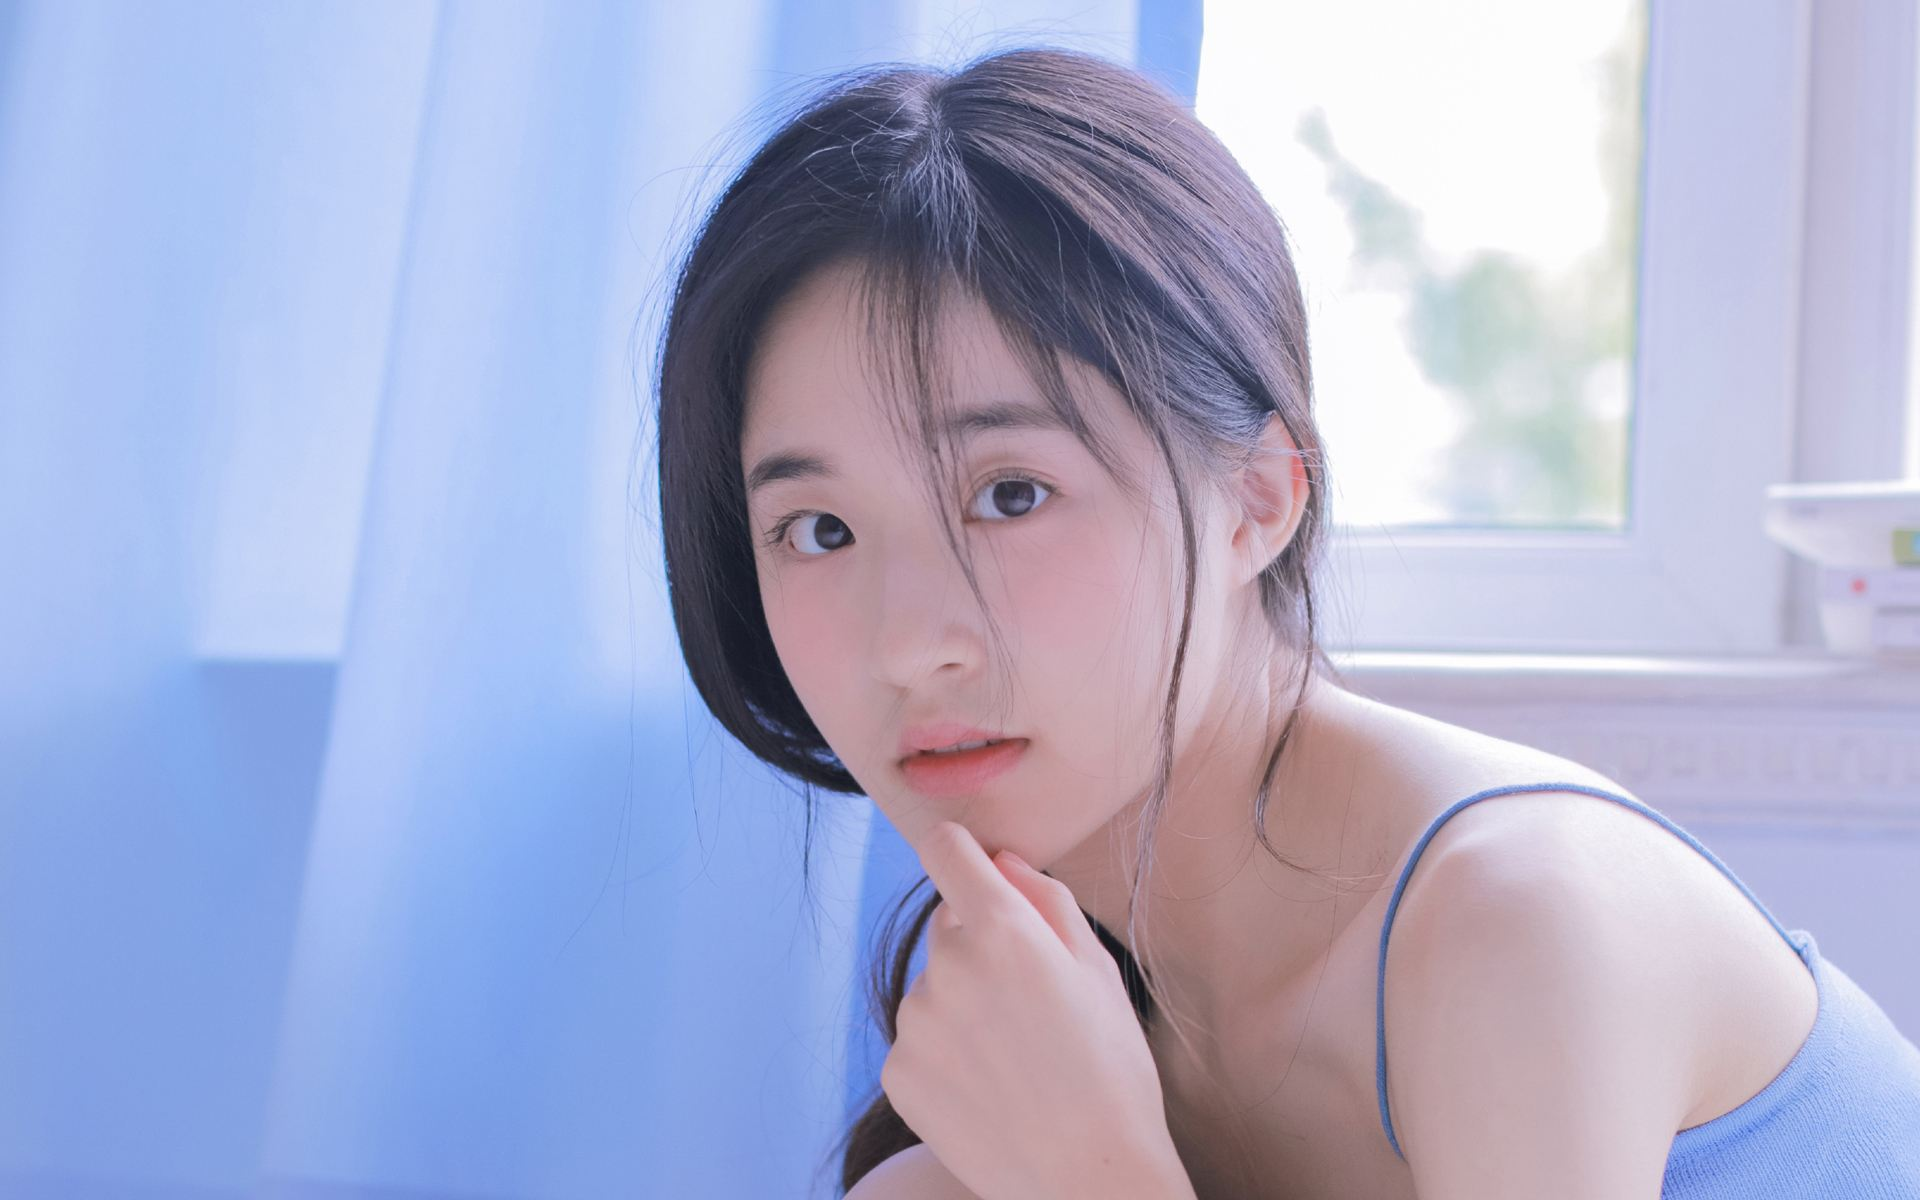person: (618, 76, 1608, 1200)
